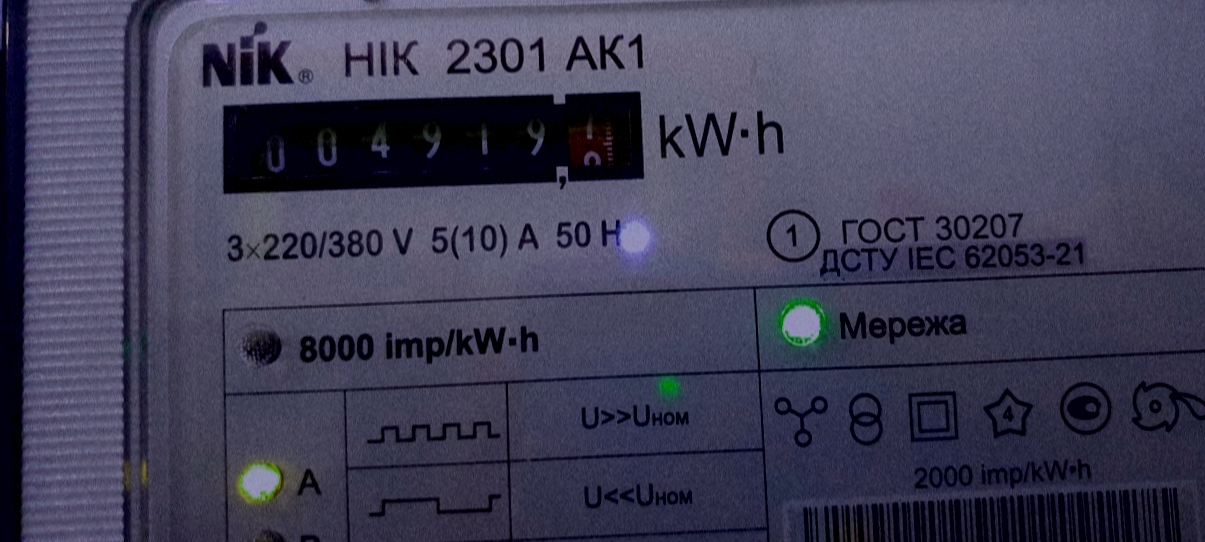0: (313, 123, 340, 169), (262, 129, 287, 174)
1: (475, 112, 492, 158)
4: (366, 116, 391, 160)
7: (576, 101, 600, 141)
9: (523, 112, 548, 160), (419, 117, 444, 161)
screen: (208, 76, 661, 212)
